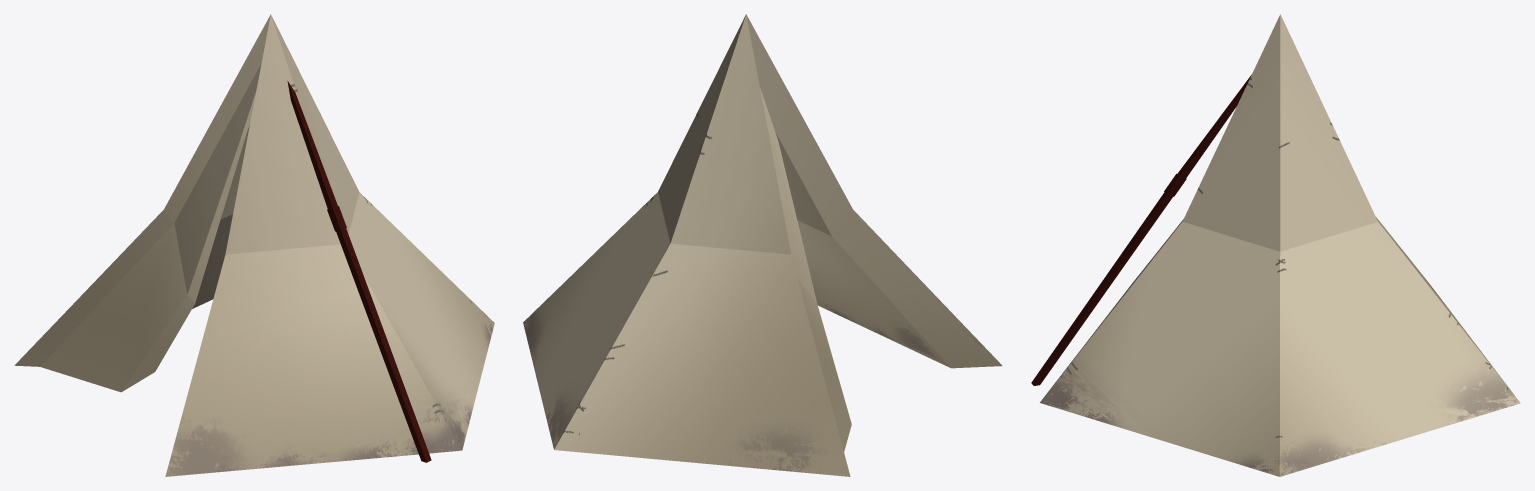
Rendered from tent_triangle.fbx.
3 renders of one model, left to right at view 1: azimuth 30°, elevation 25°; view 2: azimuth 150°, elevation 25°; view 3: azimuth 270°, elevation 25°, orthographic. The views are drawn at different scales.
Visible parts, largest first — view 1: Tent Triangle, Cube; view 2: Tent Triangle; view 3: Tent Triangle, Cube.
Part boxes in pixels (x1,y1,x2,y2): Tent Triangle: (14, 14, 494, 476); Cube: (287, 81, 431, 462); Tent Triangle: (523, 14, 1002, 476); Tent Triangle: (1040, 14, 1520, 476); Cube: (1031, 74, 1251, 385).
Size of the model in its own units: 238 by 223 by 191.
